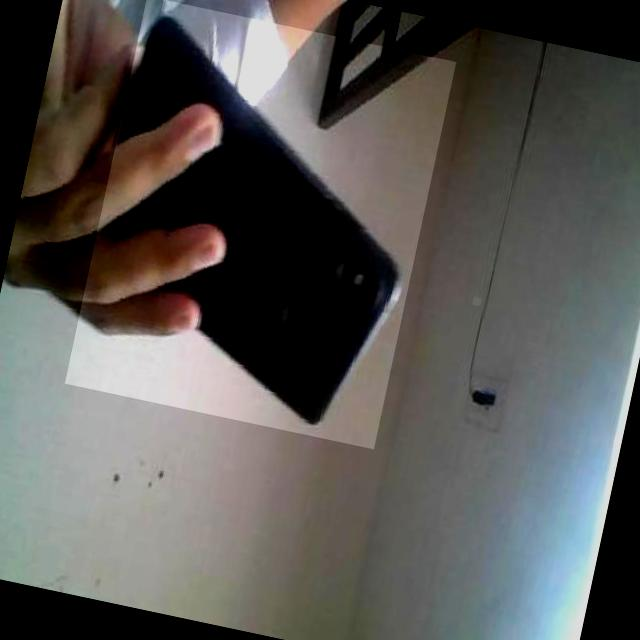lens_back: (356, 276, 382, 304), (338, 256, 360, 278)
phone: (62, 0, 454, 447)
